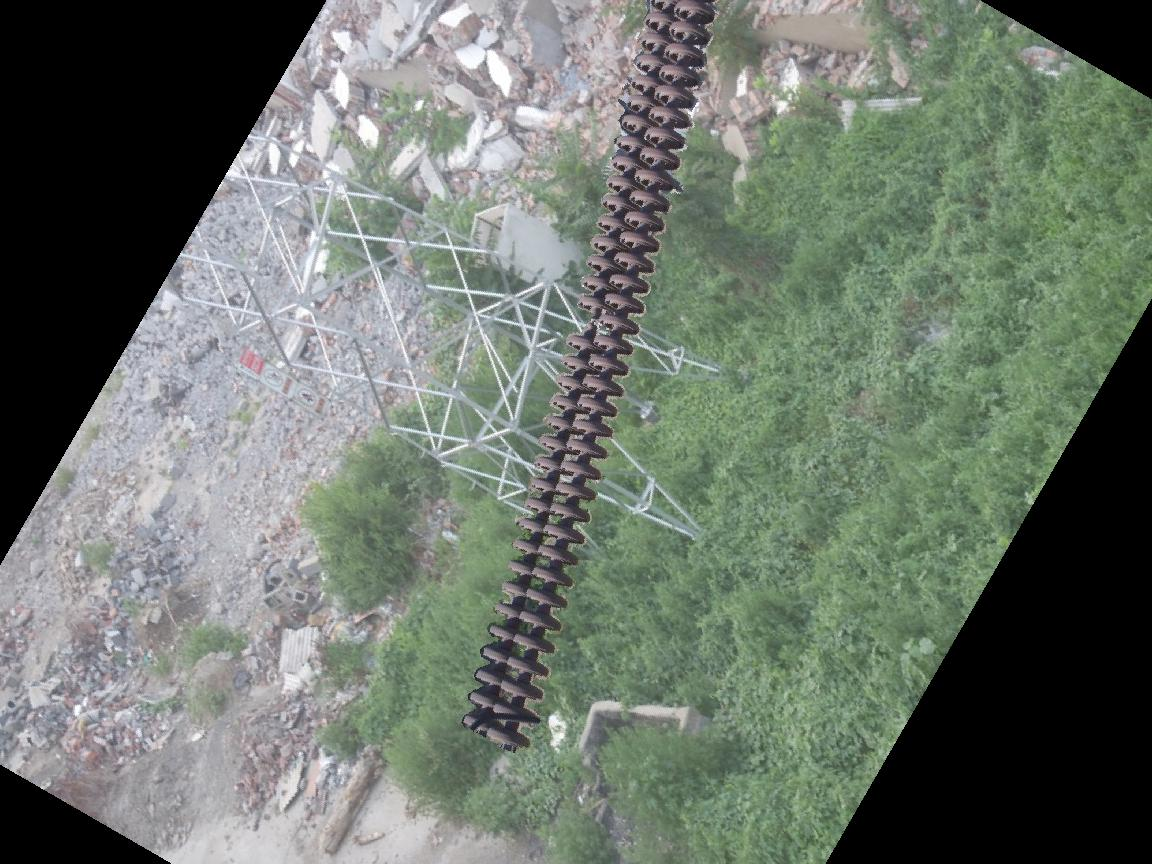insulator: (456, 1, 723, 761)
insulator_stringdrop: (560, 289, 608, 354)
